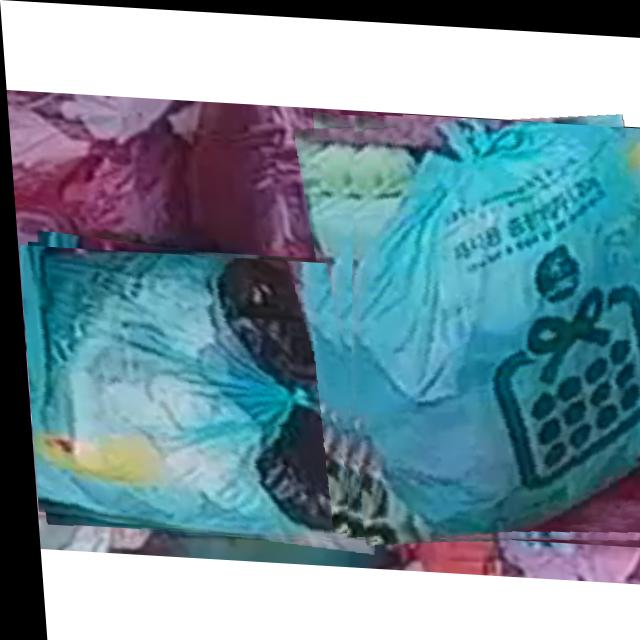general_trashbag: (344, 114, 640, 534)
other_trashbag: (29, 250, 362, 533)
